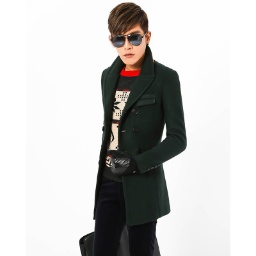face: (107, 3, 154, 62)
